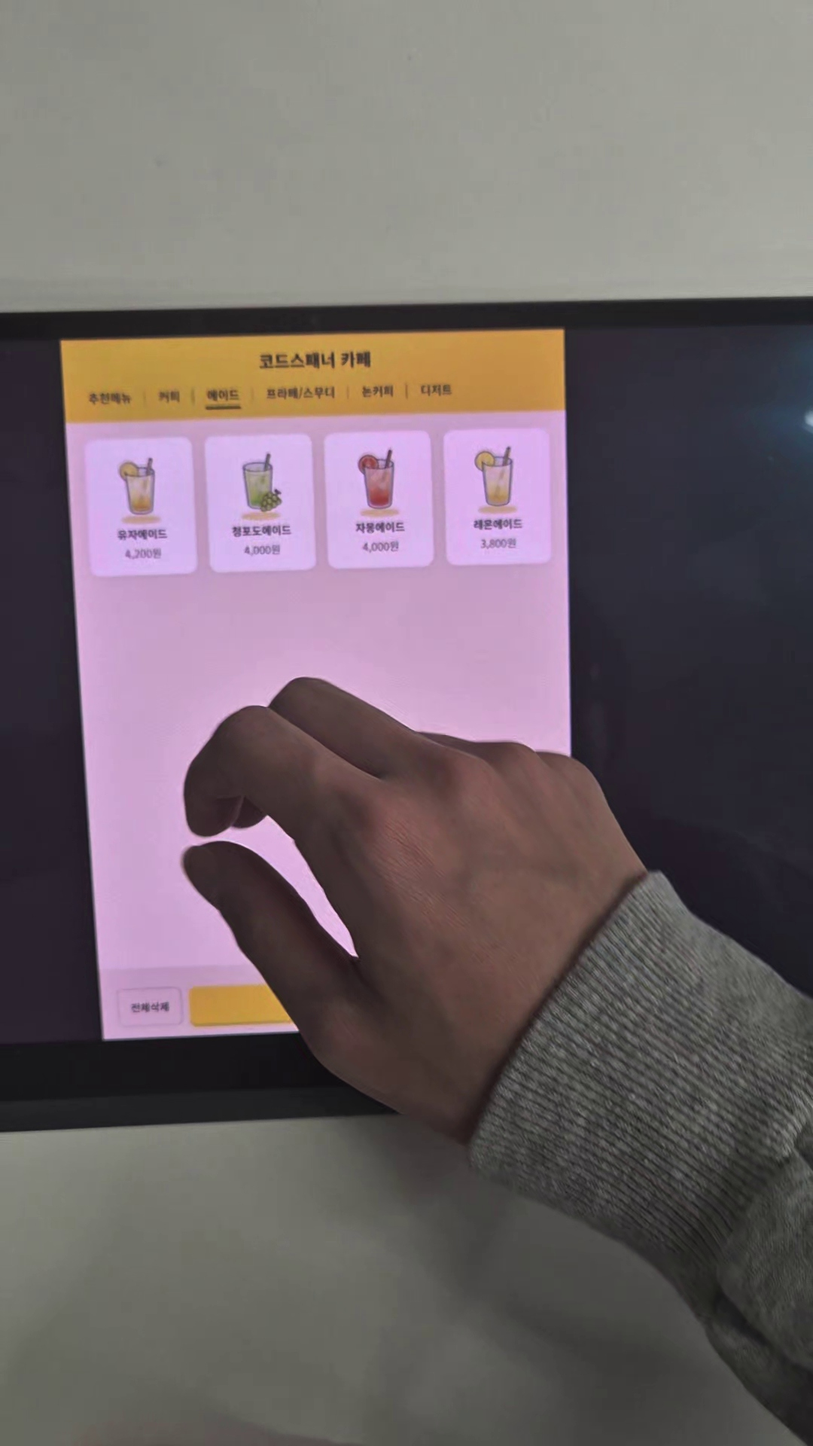action_button: (119, 987, 184, 1028)
category_tab: (262, 384, 339, 406), (87, 390, 133, 409), (357, 381, 396, 400), (418, 381, 456, 400), (203, 386, 244, 403), (154, 389, 185, 405)
menu_back: (84, 437, 198, 576), (206, 433, 317, 573), (325, 430, 436, 567), (445, 430, 549, 566)
menu_name: (232, 524, 294, 538), (115, 527, 167, 542), (473, 516, 521, 532), (352, 521, 408, 533)
menu_price: (360, 537, 404, 555), (121, 547, 165, 562), (237, 543, 284, 557), (476, 537, 521, 551)
